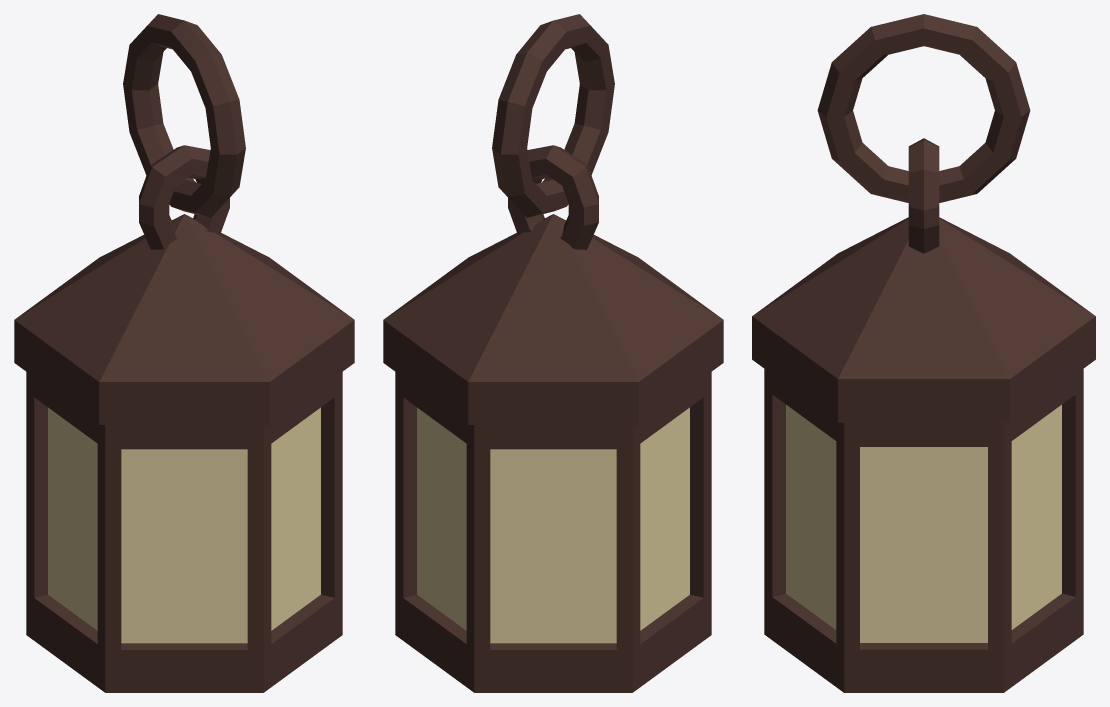
The model's file is Lantern.fbx.
3 views of the same model, side by side, from view 1: azimuth 30°, elevation 25°; view 2: azimuth 150°, elevation 25°; view 3: azimuth 270°, elevation 25° (orthographic).
Visible parts, largest first — view 1: Lantern, LanternGlass, LanternRing; view 2: Lantern, LanternGlass, LanternRing; view 3: Lantern, LanternGlass, LanternRing.
Part boxes in pixels (x1,y1,x2,y2): Lantern: [14, 145, 354, 692]; LanternGlass: [48, 407, 320, 643]; LanternRing: [123, 14, 245, 217]; Lantern: [383, 145, 723, 692]; LanternGlass: [417, 407, 689, 643]; LanternRing: [492, 14, 614, 217]; Lantern: [752, 138, 1095, 692]; LanternGlass: [786, 404, 1061, 642]; LanternRing: [817, 14, 1030, 202].
Bounding box in the file's own units: 0.8392 × 1.93 × 0.969.
